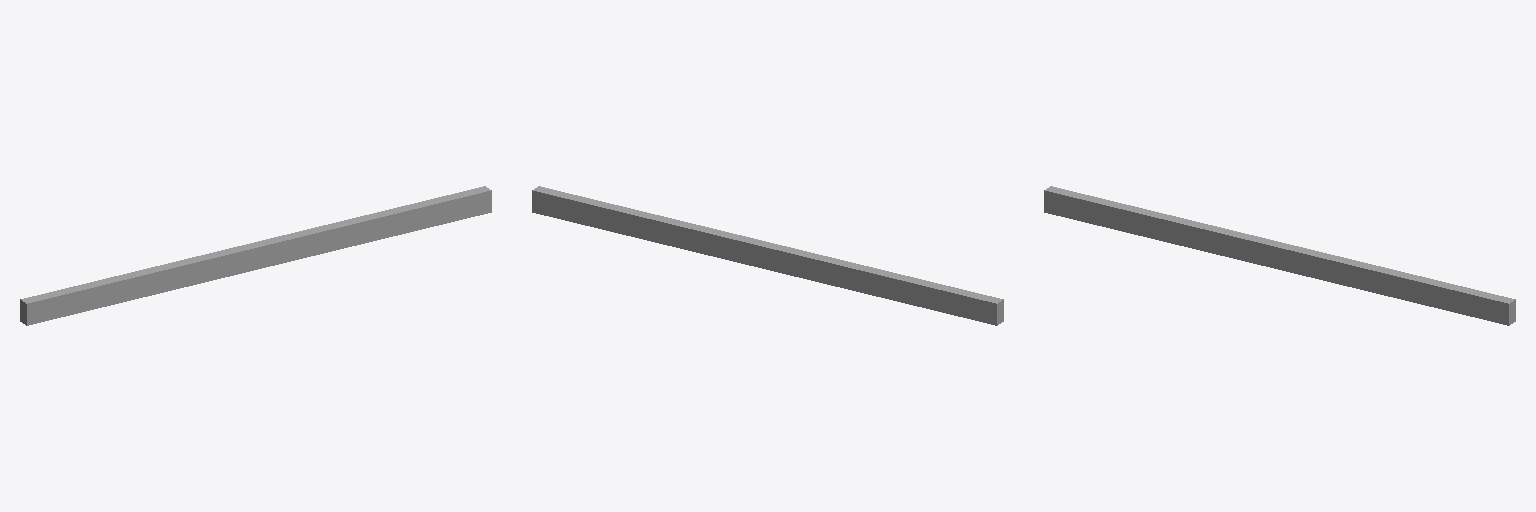
URDF robot description (block_2):
<?xml version="1.0"?>
<robot name="block_2">
  <link name="block_2_base_link">
    <contact>
      <lateral_friction value="1.0"/>
      <spinning_friction value=".001"/>
    </contact>
    <inertial>
      <origin rpy="0 0 0" xyz="0 0 0"/>
      <mass value="0.02"/>
      <inertia ixx="1" ixy="0" ixz="0" iyy="1" iyz="0" izz="1"/>
    </inertial>
    <visual>
      <origin rpy="0 0 0" xyz="0.0 0.0 0.0"/>
      <geometry>
        <box size="22 .5 1"/>
      </geometry>
      <material name="blockmat">
        <color rgba=".7 .7 .7 1"/>
      </material>
    </visual>
    <collision>
      <origin rpy="0 0 0" xyz="0.0 0.0 0.0"/>
      <geometry>
        <box size="22 .5 1"/>
      </geometry>
    </collision>
  </link>
</robot>

--- Facts derived from the render (not from the file) ---
3 views of the same robot in one strip: view 1: azimuth 30°, elevation 25°; view 2: azimuth 150°, elevation 25°; view 3: azimuth 330°, elevation 25° (orthographic).
Model block_2 with 1 links and 0 joints (none), rooted at block_2_base_link, posed every joint at zero.
Visible links, largest first — view 1: block_2_base_link; view 2: block_2_base_link; view 3: block_2_base_link.
Boxes of the visible links, x1,y1,x2,y2 form: block_2_base_link: [20, 186, 491, 325]; block_2_base_link: [532, 186, 1003, 325]; block_2_base_link: [1044, 186, 1515, 325].
Size in the robot's own frame: 22 by 0.5 by 1 metres.
Geometry: primitives only (box / cylinder / sphere), no mesh files.
